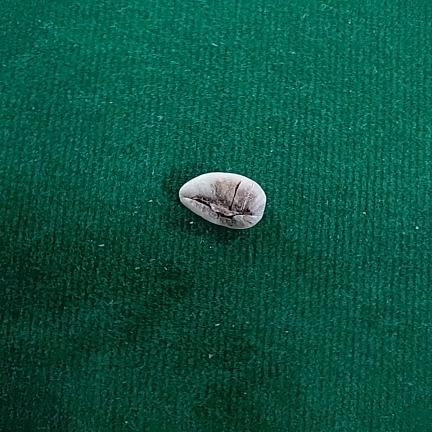immature: (179, 172, 266, 229)
